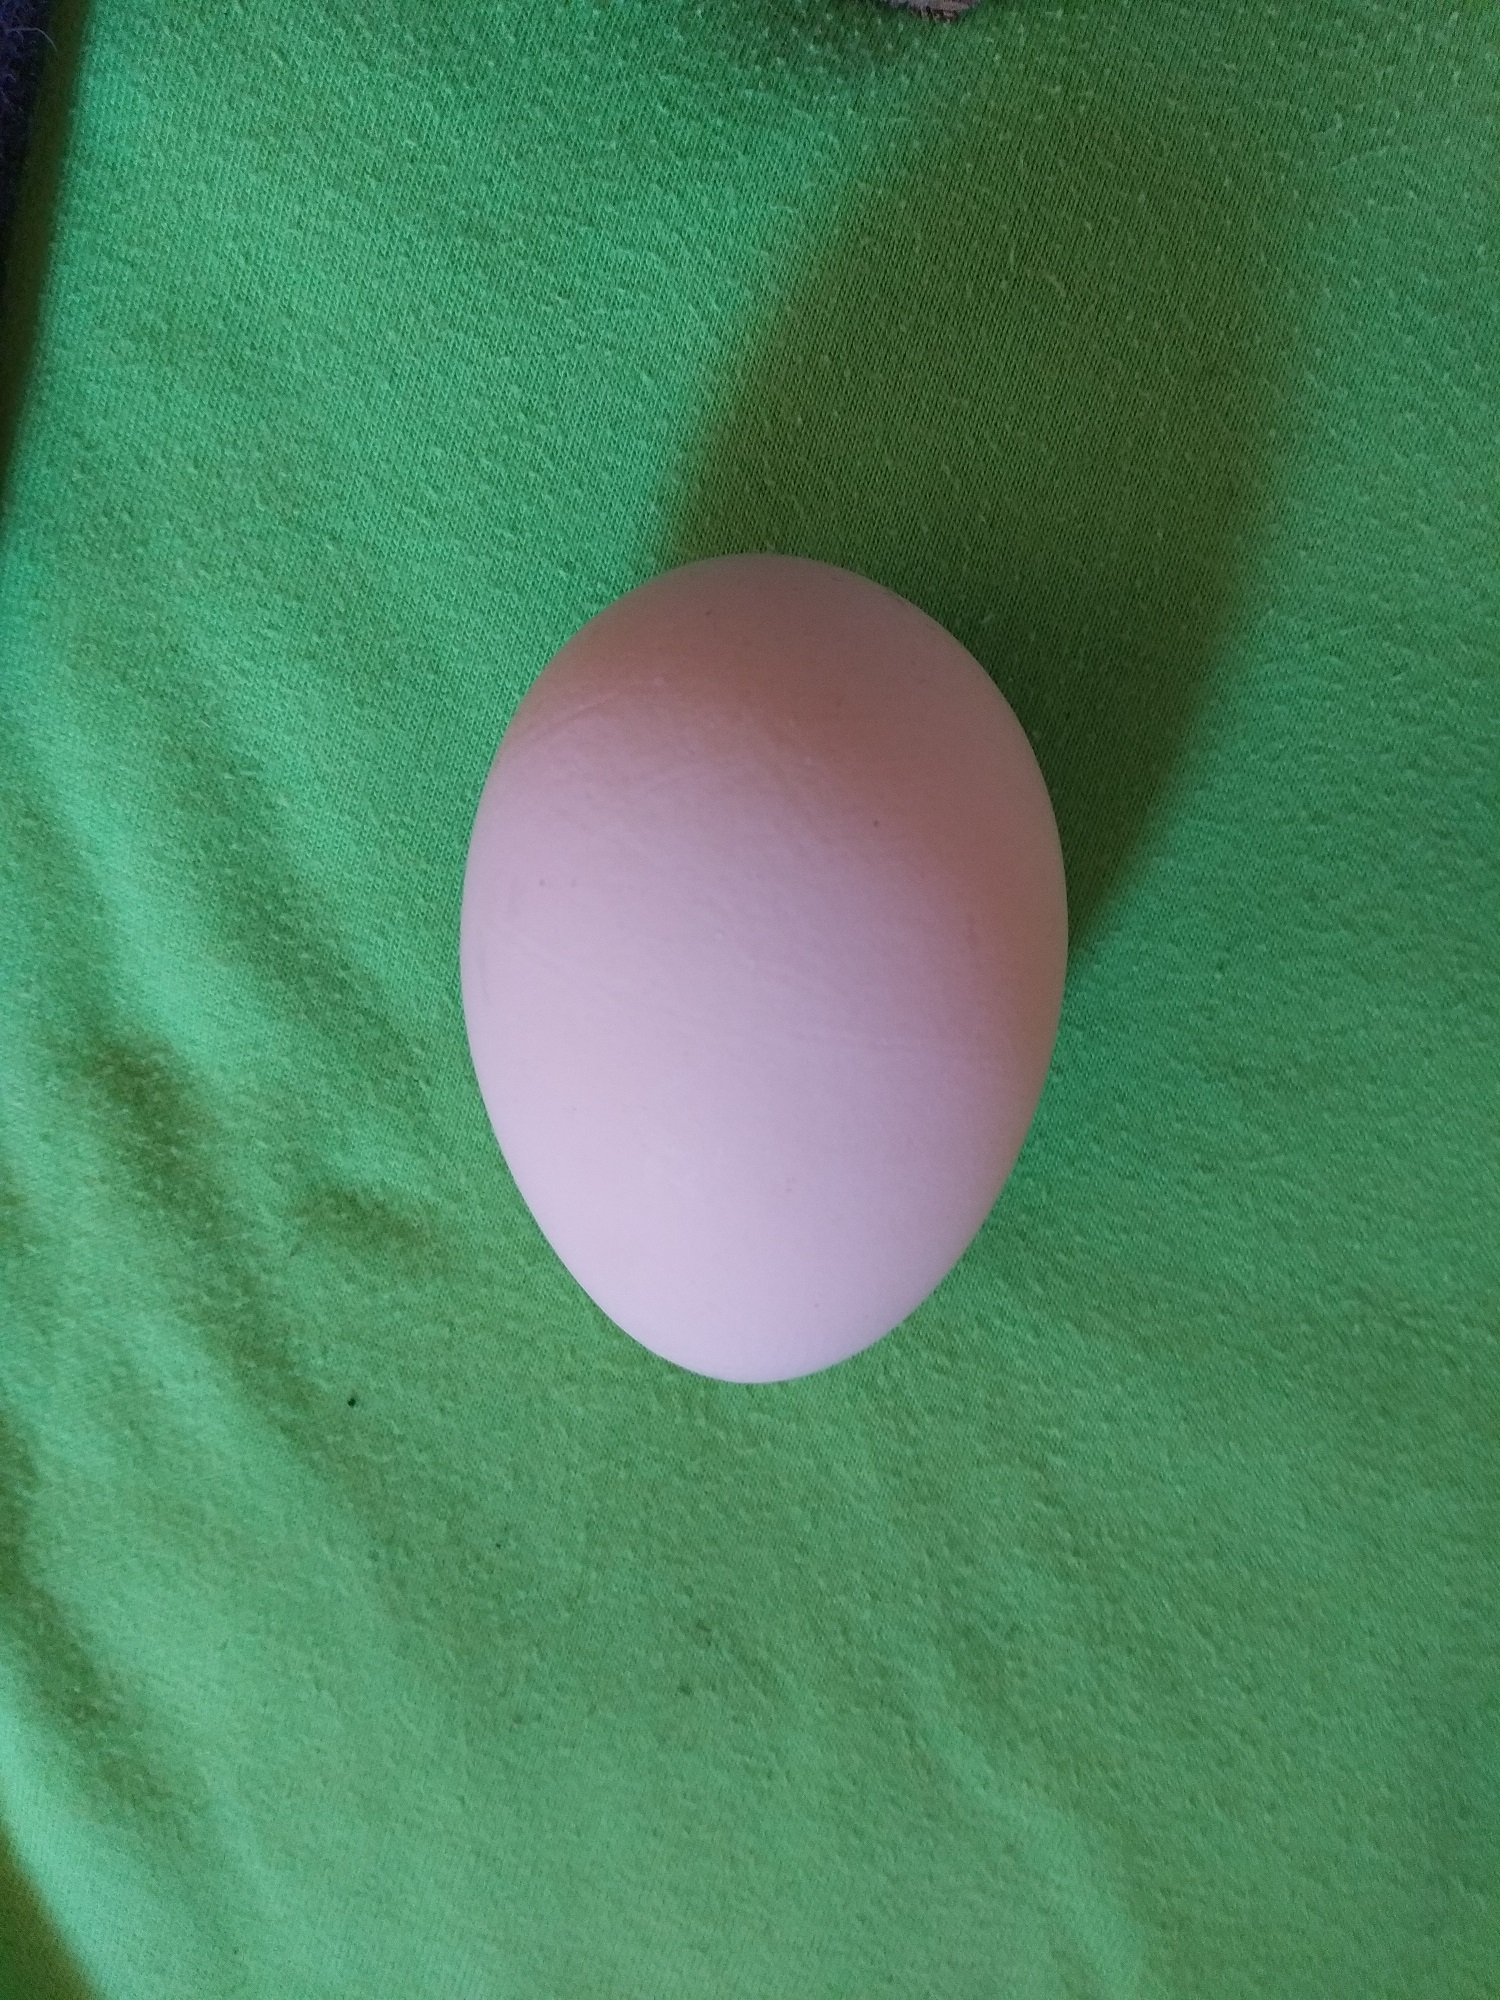Male: (454, 550, 1073, 1392)
